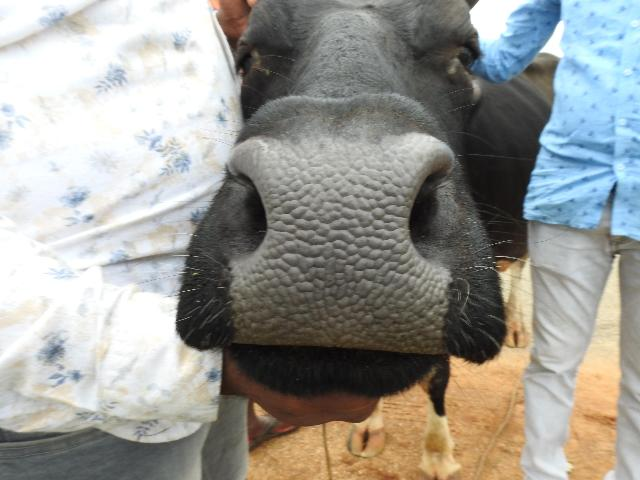Muzzle: (253, 148, 419, 336)
